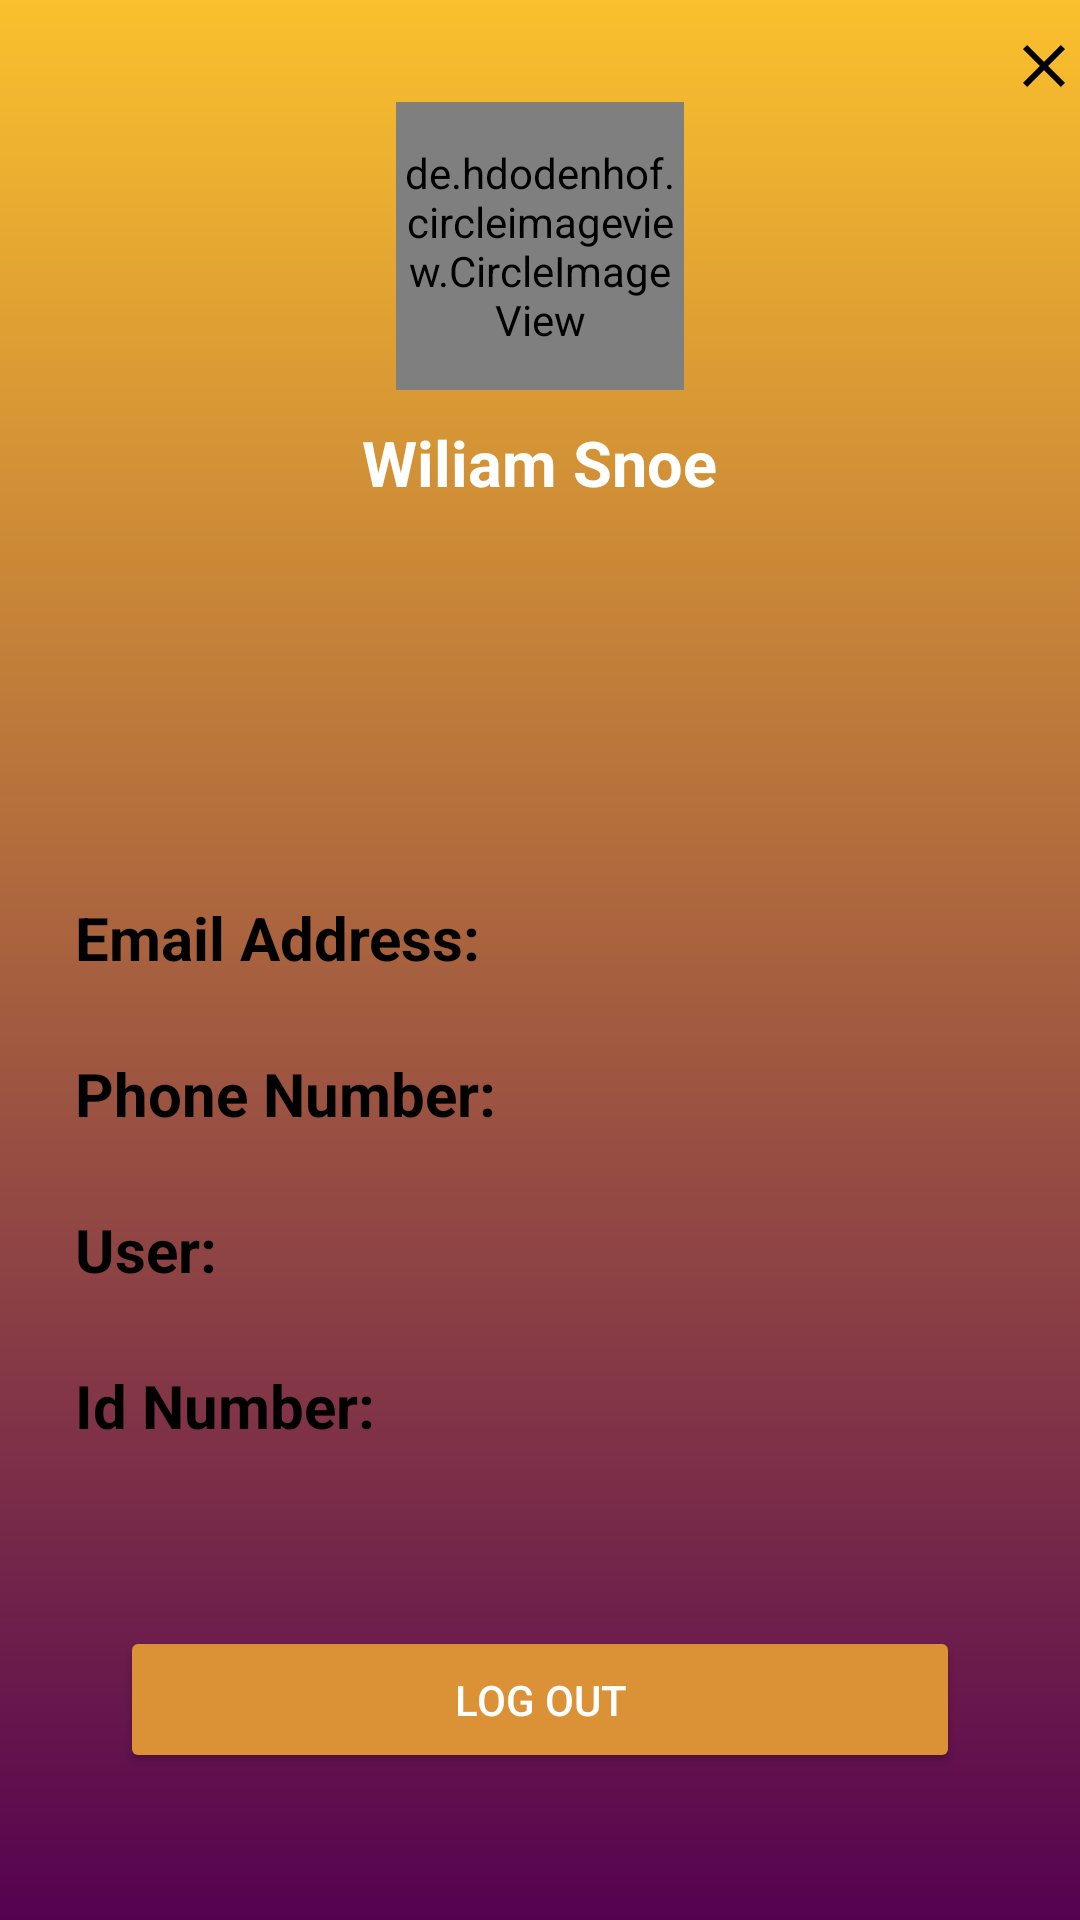

Icon click points for this 1080px x 1920px phone screenshot, format (x,y):
close: (1044,66)
